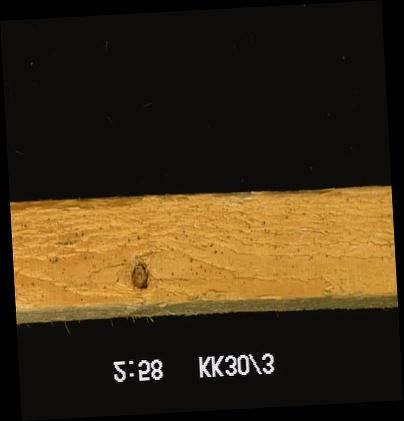wave: (15, 288, 394, 316), (213, 186, 390, 206), (10, 192, 143, 216)
